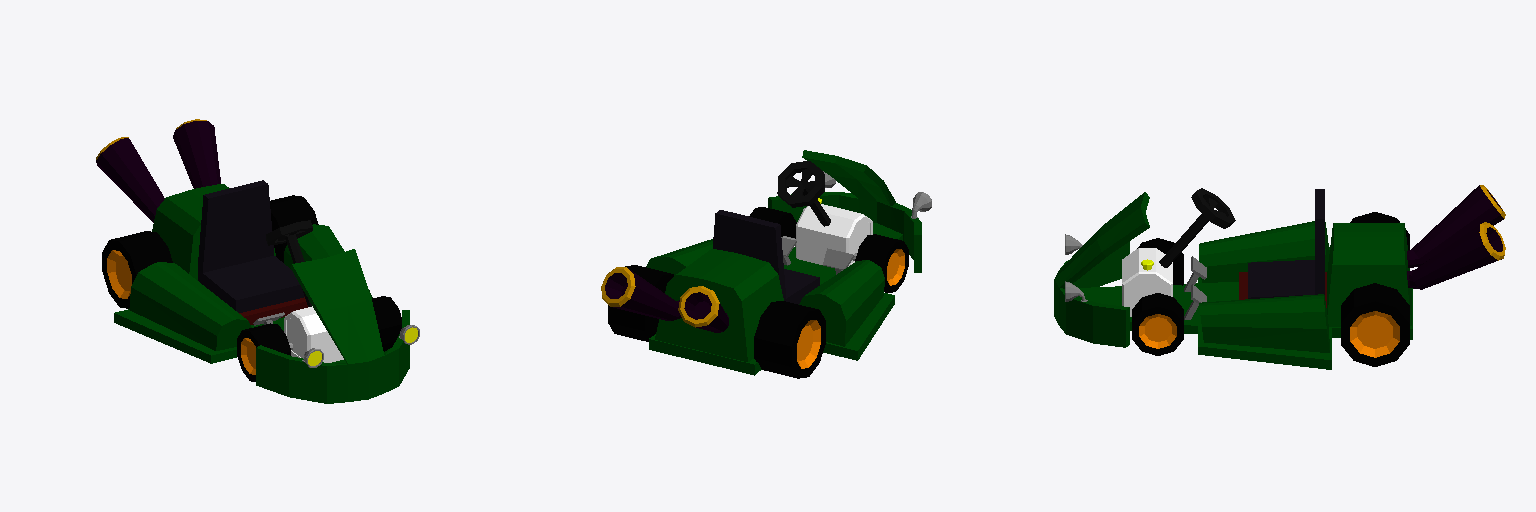
File: GreenKart.obj
3 renders of one model, left to right at view 1: azimuth 30°, elevation 25°; view 2: azimuth 150°, elevation 25°; view 3: azimuth 270°, elevation 25°, orthographic.
Parts seen in each view (by area): view 1: KartPlataform1_Cylinder, Hood1_Cylinder.010, Chair1_Cube, Wheels1_Cylinder.004, Catalysts1_Cylinder.017, SteeringWheel1_Cylinder.001, Lights_Kart1_Cylinder.005; view 2: KartPlataform1_Cylinder, Wheels1_Cylinder.004, Hood1_Cylinder.010, Catalysts1_Cylinder.017, Chair1_Cube, SteeringWheel1_Cylinder.001, Pedals1_Cylinder.007; view 3: KartPlataform1_Cylinder, Wheels1_Cylinder.004, Hood1_Cylinder.010, Catalysts1_Cylinder.017, Chair1_Cube, SteeringWheel1_Cylinder.001, Pedals1_Cylinder.007.
Part boxes in pixels (x1,y1,x2,y2): KartPlataform1_Cylinder: (114, 184, 372, 363); Hood1_Cylinder.010: (256, 249, 409, 403); Chair1_Cube: (198, 180, 307, 324); Wheels1_Cylinder.004: (102, 195, 401, 381); Catalysts1_Cylinder.017: (96, 119, 220, 222); SteeringWheel1_Cylinder.001: (266, 220, 312, 306); Lights_Kart1_Cylinder.005: (302, 325, 419, 367); KartPlataform1_Cylinder: (646, 198, 902, 375); Wheels1_Cylinder.004: (608, 207, 908, 378); Hood1_Cylinder.010: (768, 150, 921, 272); Catalysts1_Cylinder.017: (601, 267, 728, 332); Chair1_Cube: (713, 210, 819, 304); SteeringWheel1_Cylinder.001: (777, 161, 830, 226); Pedals1_Cylinder.007: (781, 237, 854, 274); KartPlataform1_Cylinder: (1078, 221, 1412, 369); Wheels1_Cylinder.004: (1132, 212, 1409, 366); Hood1_Cylinder.010: (1054, 192, 1149, 347); Catalysts1_Cylinder.017: (1407, 185, 1505, 289); Chair1_Cube: (1239, 189, 1326, 307); SteeringWheel1_Cylinder.001: (1159, 188, 1235, 267); Pedals1_Cylinder.007: (1184, 256, 1206, 319).
Bounding box in the file's own units: 10.53 × 5.62 × 17.74.